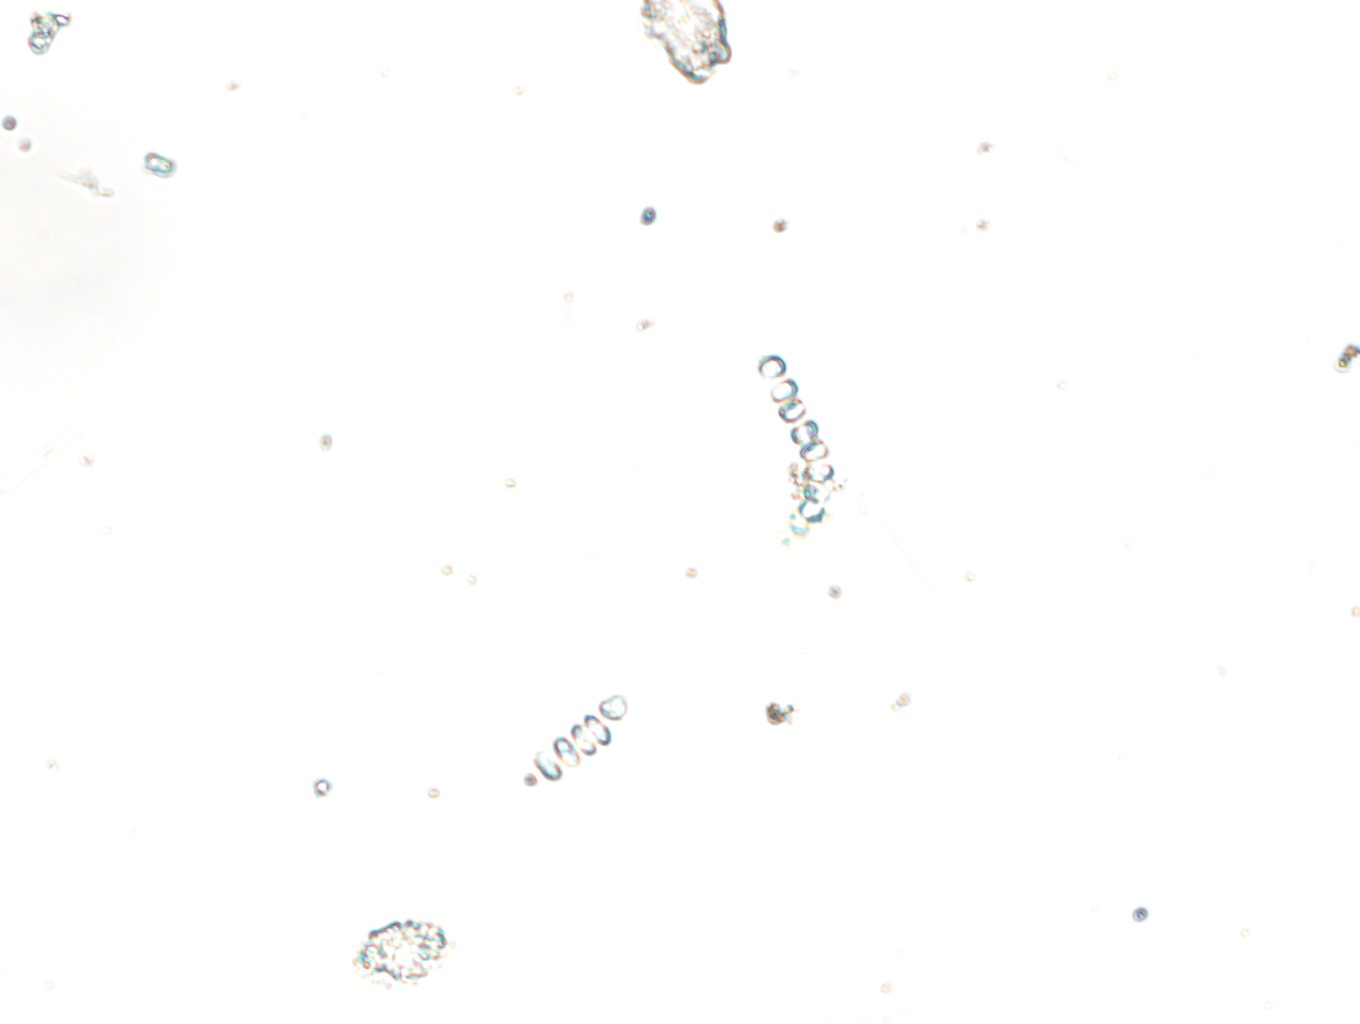skeletonema: (758, 350, 838, 547), (522, 692, 631, 786)
